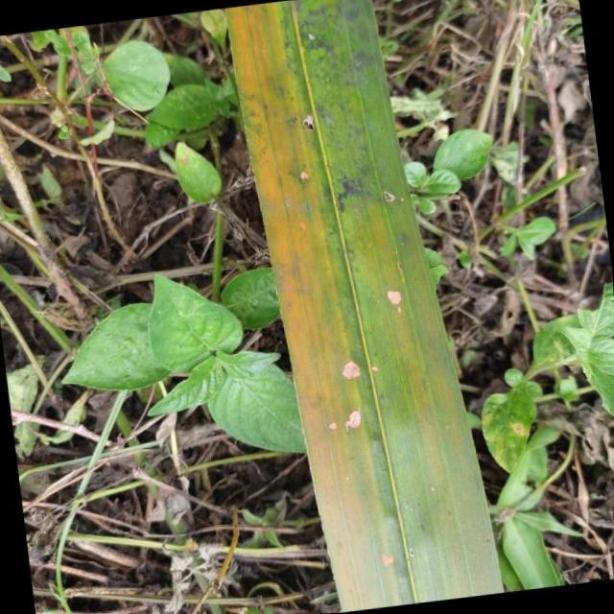Megnesium: (229, 0, 502, 614)
